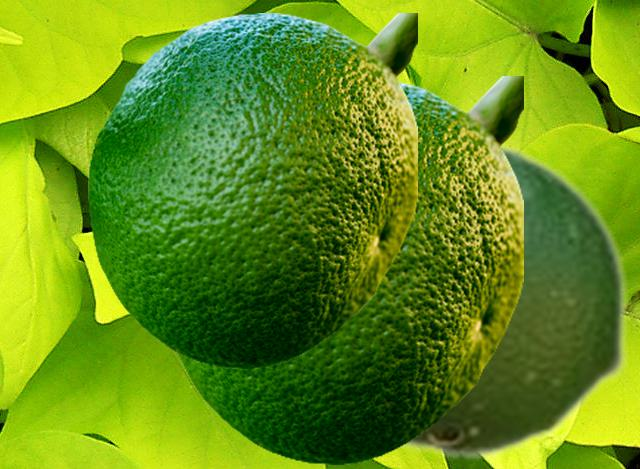dalandan: (173, 76, 522, 463), (88, 13, 416, 367), (393, 138, 629, 461)
